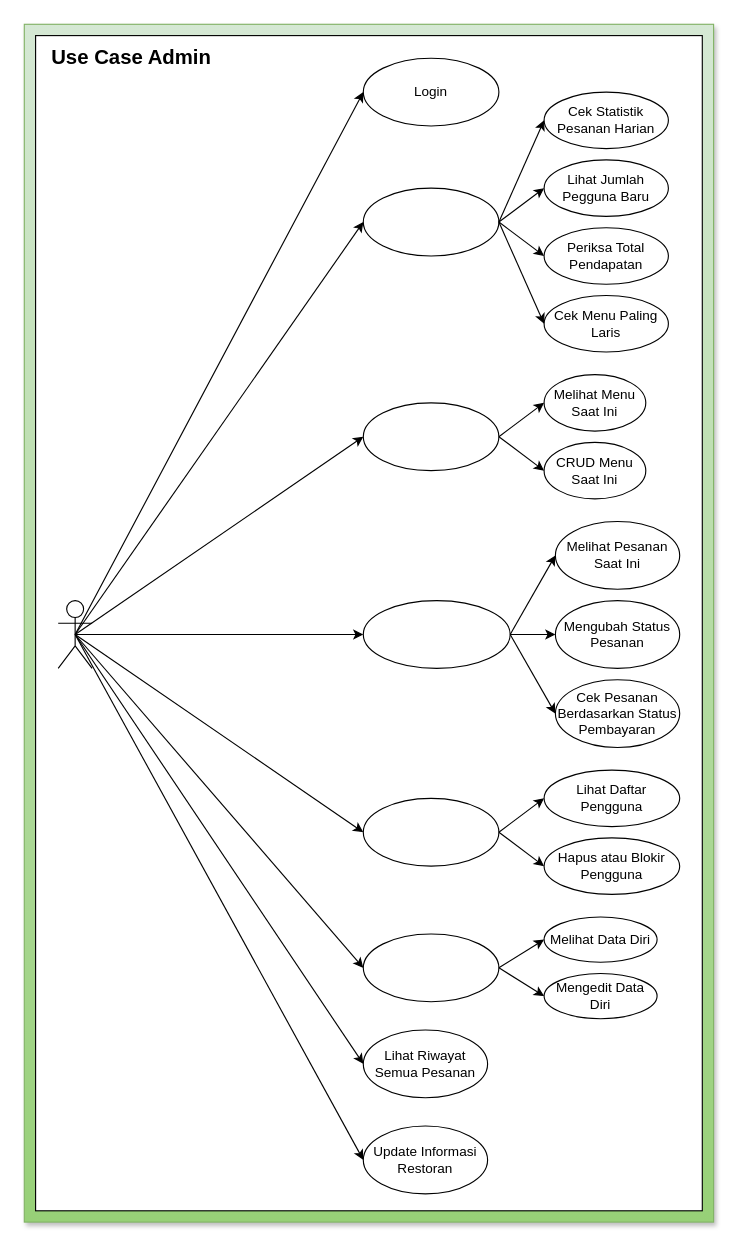
The diagram is 740 pixels wide and 1250 high, and some of its shapes have lost their labels. Each missing label, with the centre of its shape:
"Admin" goes at point (74, 633).
"Kelola Informasi Pengguna" goes at point (430, 967).
"Manajemen Menu" goes at point (430, 436).
"Manajemen Pengguna" goes at point (430, 831).
"Manajemen Pesanan" goes at point (436, 633).
"Melihat Dashboard" goes at point (430, 221).
